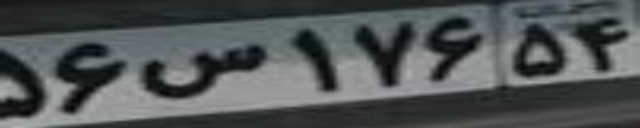1: (290, 26, 340, 91)
4: (572, 17, 631, 73)
5: (0, 47, 45, 120), (508, 23, 566, 77)
6: (52, 43, 128, 113), (423, 16, 484, 81)
7: (353, 20, 415, 87)
sin: (138, 44, 268, 98)
